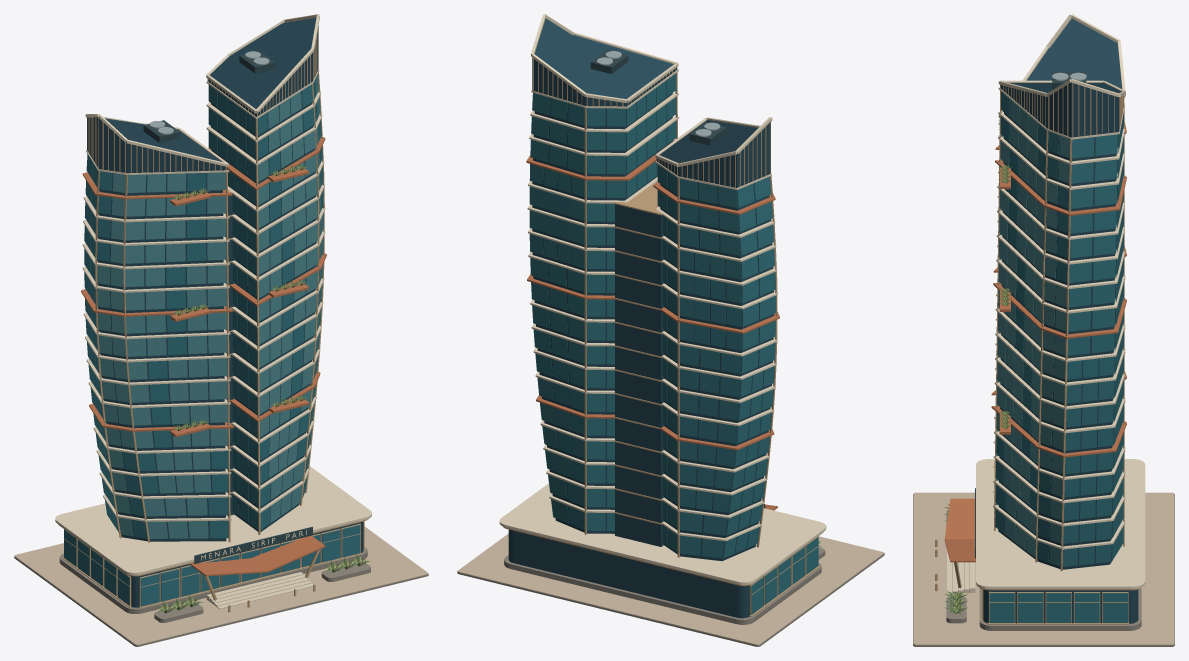
3 views of the same model, side by side, from view 1: azimuth 30°, elevation 25°; view 2: azimuth 150°, elevation 25°; view 3: azimuth 270°, elevation 25° (orthographic). The views are drawn at different scales.
Visible parts, largest first — view 1: Glazed Office Wings, Ceramic Solar Fins, Banking Hall Podium, Arrival Court, Wingtip Crowns, Sky Lobby Terraces; view 2: Glazed Office Wings, Banking Hall Podium, Ceramic Solar Fins, Wingtip Crowns, Arrival Court; view 3: Glazed Office Wings, Banking Hall Podium, Arrival Court, Ceramic Solar Fins, Wingtip Crowns, Sky Lobby Terraces.
Boxes of the visible parts, x1,y1,x2,y2 form: Glazed Office Wings: (84,73,323,541); Ceramic Solar Fins: (81,69,326,542); Banking Hall Podium: (55,466,371,613); Arrival Court: (14,526,428,646); Wingtip Crowns: (85,14,319,173); Sky Lobby Terraces: (170,163,308,437); Glazed Office Wings: (529,73,775,560); Banking Hall Podium: (499,483,826,624); Ceramic Solar Fins: (526,69,779,557); Wingtip Crowns: (531,14,772,187); Arrival Court: (457,533,884,646); Glazed Office Wings: (995,92,1123,569); Banking Hall Podium: (944,459,1145,630); Arrival Court: (913,492,1174,646); Ceramic Solar Fins: (991,87,1126,571); Wingtip Crowns: (998,14,1125,137); Sky Lobby Terraces: (998,120,1011,434).
Bounding box in the file's own units: 43.8 × 73.49 × 31.8.
